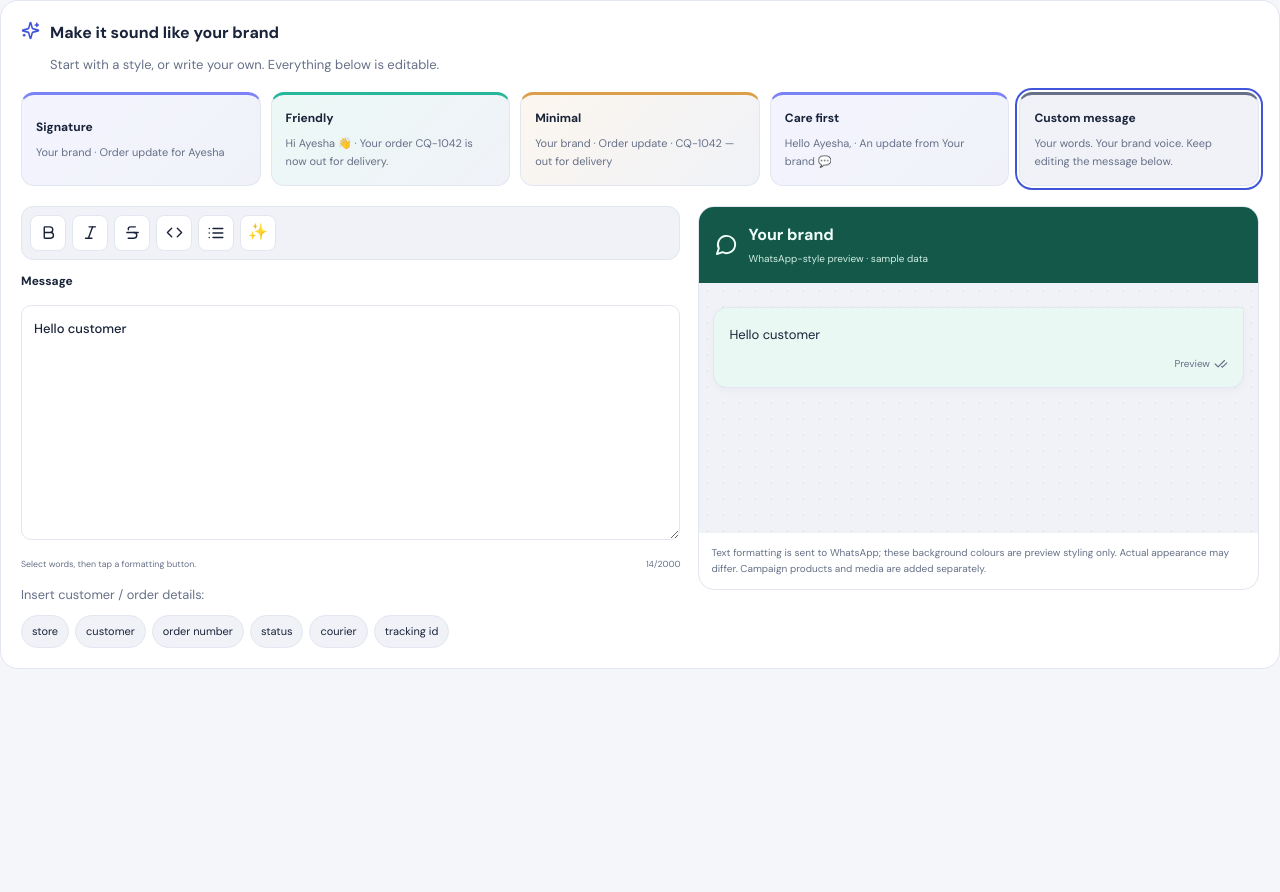
it: previews templates without replacing text until explicitly applied
The image size is (1280, 892).
What coordinates should you click on to do the following:
click the button "Friendly"
I would click on:
 (390, 139)
Its box is [271,92,510,186].
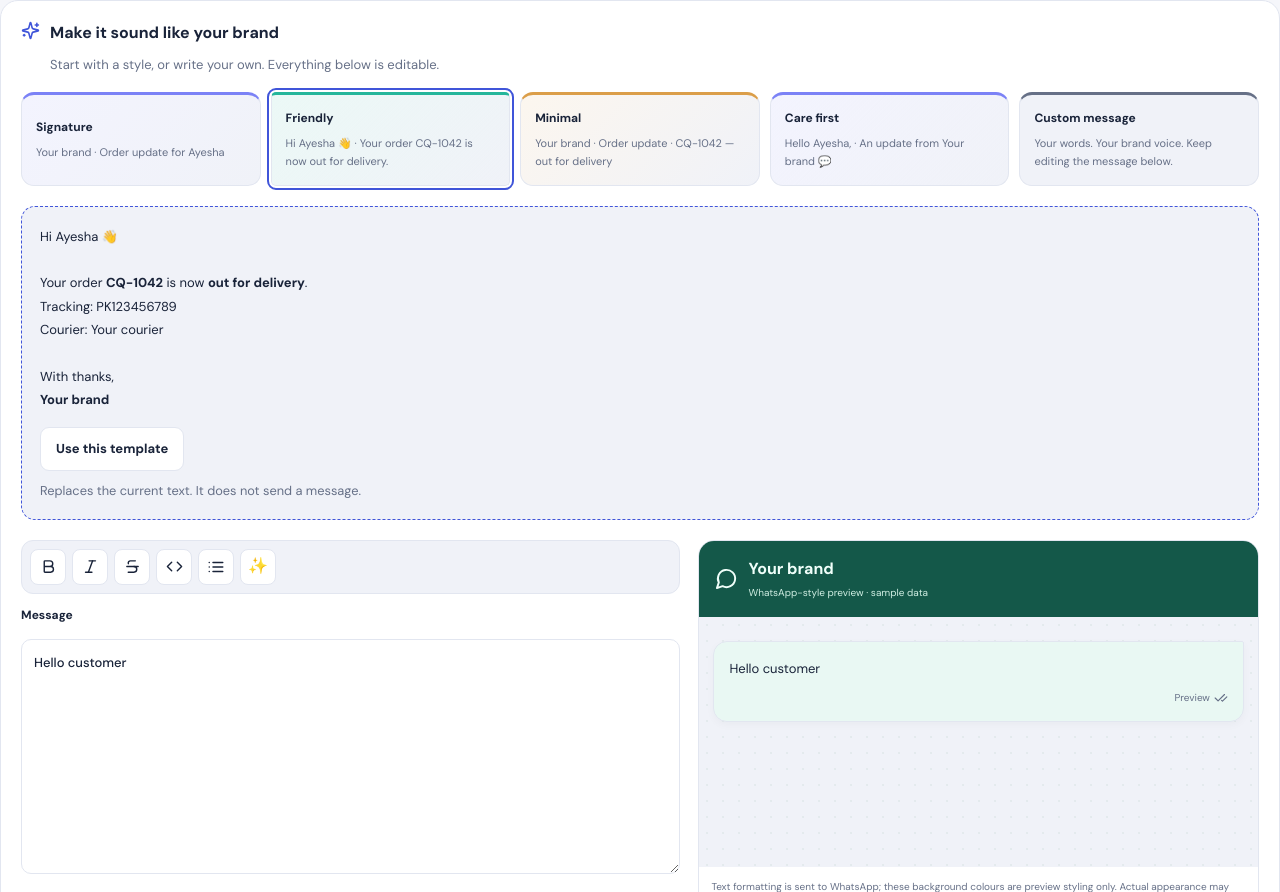
Expected: the text box labelled "Message" holds "Hello customer", [21,639,680,874]
What coordinates should you click on to do the following:
click the button "Use this template"
I would click on:
 (112, 449)
Its box is [40,427,184,471].
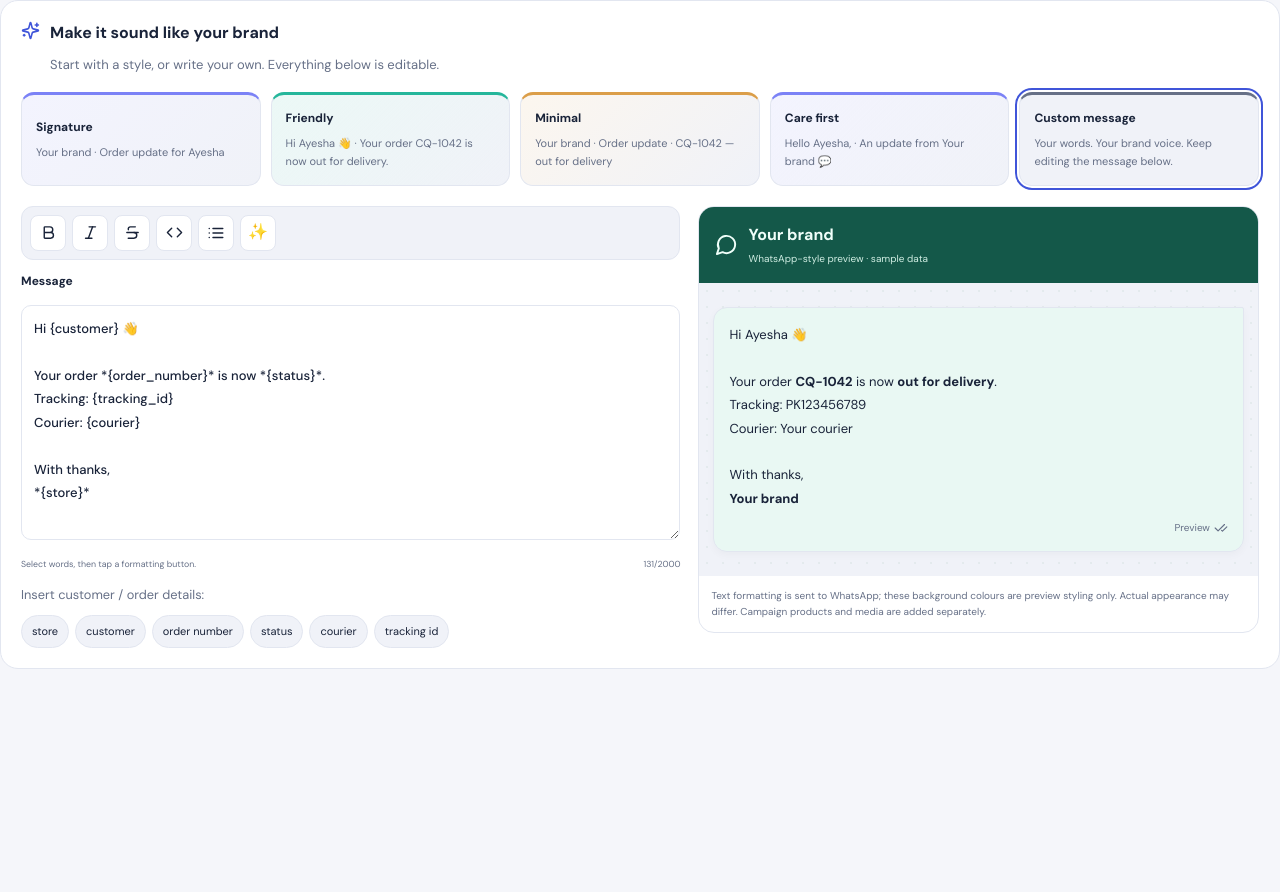
Expected: the element named "Message preview" shows "Ayesha", [730,326,808,390]
